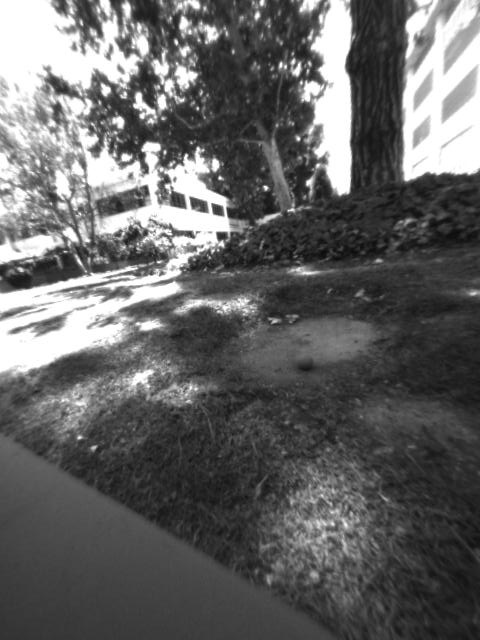dogtoy: (288, 342, 325, 379)
